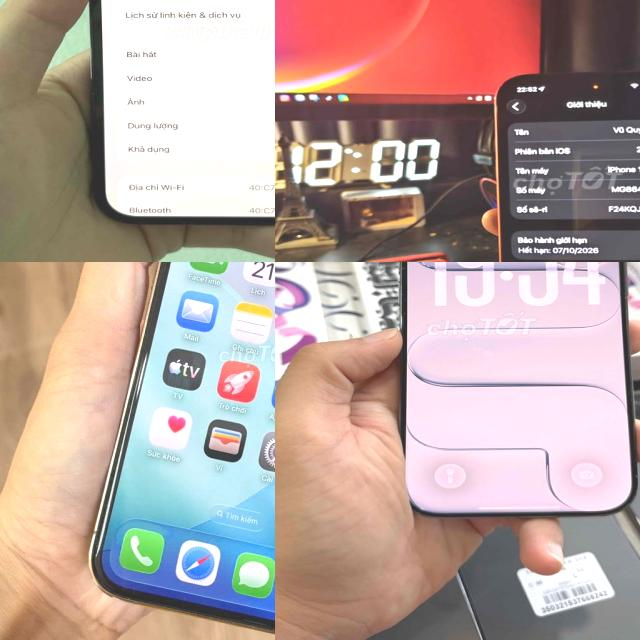gen_12_13: (86, 262, 275, 640), (75, 0, 275, 232)
gen_17: (392, 262, 640, 522), (497, 64, 640, 262)
